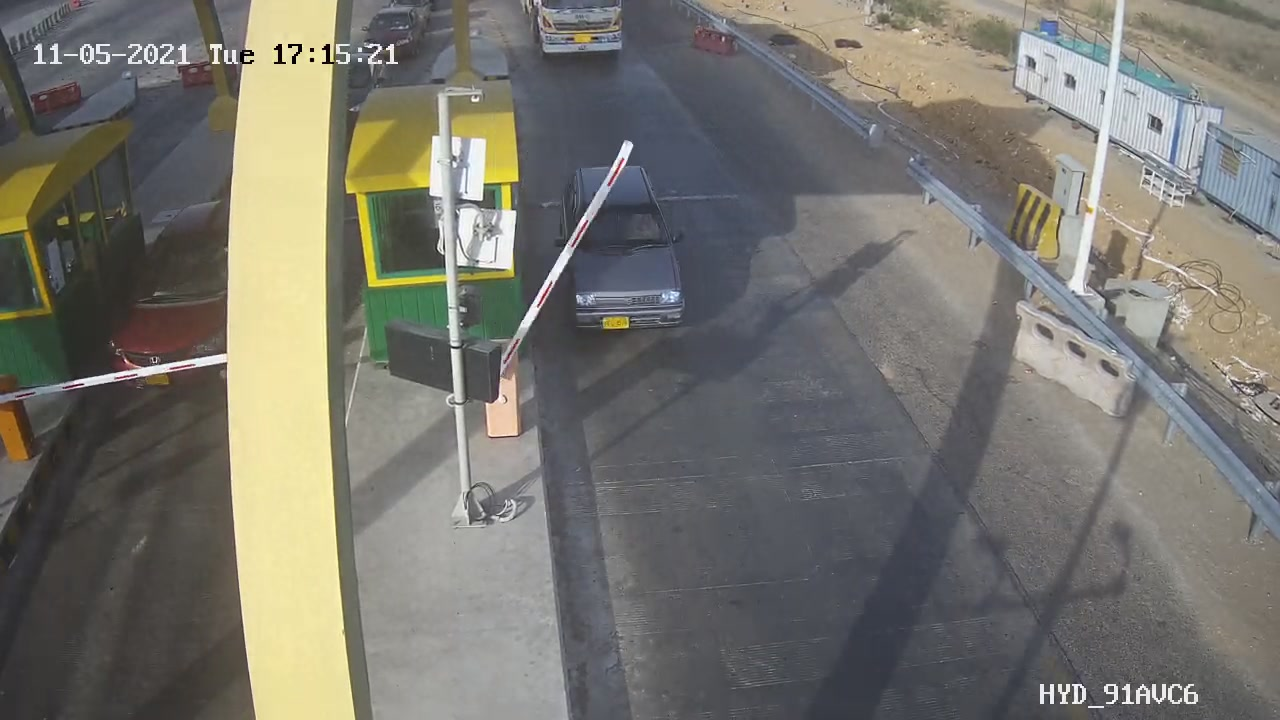F1: (534, 151, 712, 362)
